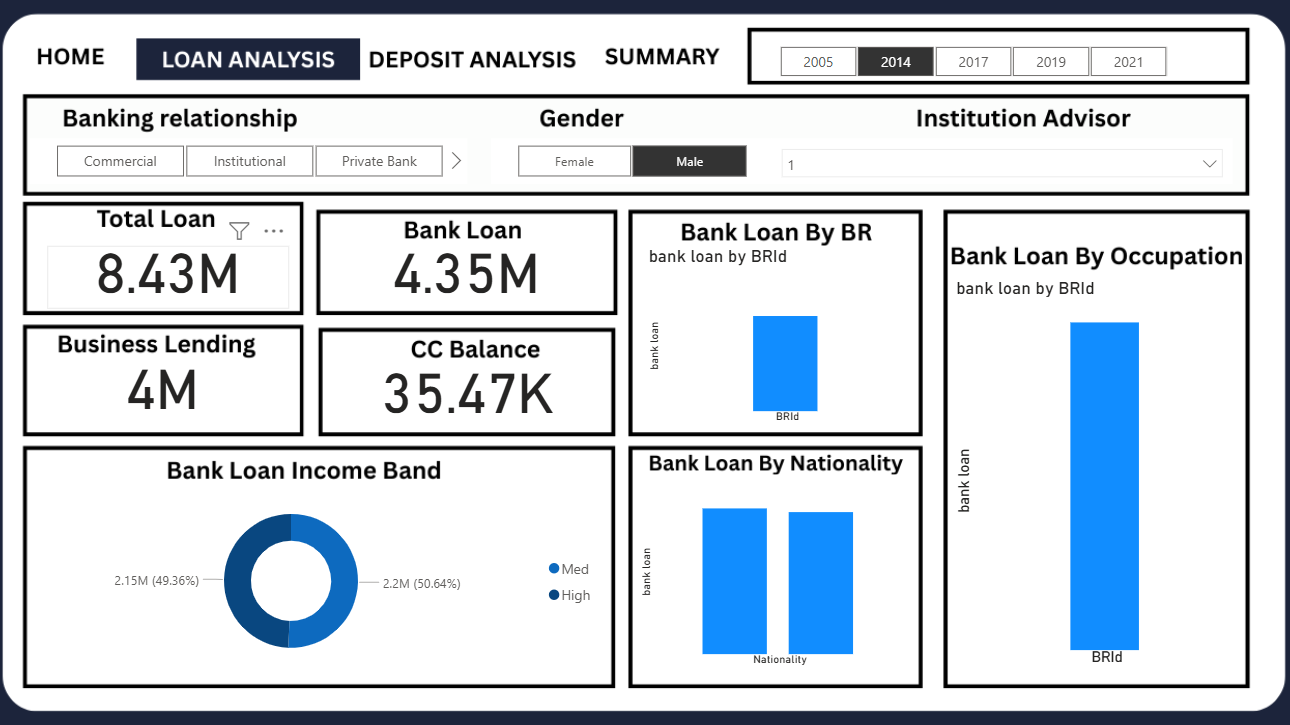

This screenshot's page, from the dashboard's own definition file:
{"tool":"powerbi","page":{"name":"Loan Analysis","canvas":[1280,720],"ordinal":2},"visuals":[{"type":"slicer","fields":{"Values":["Banking.year_of_joining"]},"box":[745.1,50.8,422.6,42.5],"z":0},{"type":"actionButton","box":[31.4,50.7,100.1,39.8],"z":1000},{"type":"actionButton","box":[370.4,50.7,211.1,39.8],"z":2000},{"type":"actionButton","box":[581.8,49.4,140,39.8],"z":3000},{"type":"card","fields":{"Values":["Banking.Total Loan"]},"box":[64.5,249.7,233.3,60.4],"z":4000},{"type":"card","fields":{"Values":["Banking.Business_Lending"]},"box":[53.5,359.5,244.3,65.9],"z":5000},{"type":"card","fields":{"Values":["Banking.bank loan"]},"box":[345.8,249.7,244.3,60.4],"z":6000},{"type":"card","fields":{"Values":["Sum(Banking.Credit Card Balance)"]},"box":[347.2,365,245.6,61.7],"z":7000},{"type":"donutChart","fields":{"Category":["Banking.Income_band"],"Y":["Banking.bank loan"]},"box":[46.7,485.8,555.7,174.3],"z":8000},{"type":"columnChart","fields":{"Category":["Banking.BRId"],"Y":["Banking.bank loan"]},"box":[639.5,249.7,260.7,175.6],"z":9000},{"type":"columnChart","fields":{"Category":["Banking.Nationality"],"Y":["Banking.bank loan"]},"box":[632.6,470.7,260.7,189.4],"z":10000},{"type":"columnChart","fields":{"Category":["Banking.BRId"],"Y":["Banking.bank loan"]},"box":[935.9,279.9,279.9,380.1],"z":11000},{"type":"slicer","fields":{"Values":["Banking.BRId"]},"box":[46.7,145.5,422.6,43.9],"z":12000},{"type":"slicer","fields":{"Values":["Banking.GenderId"]},"box":[492.6,145.5,270.3,43.9],"z":13000},{"type":"slicer","fields":{"Values":["Banking.IAId"]},"box":[763,145.5,446,43.9],"z":14000}]}

Visuals, with their boxes in screenshot pixels (x1, y1, x2, y2), scaled from the page's 1280x720 canvas onto the 1290x725 screenshot:
slicer - Banking.year_of_joining: {"x1": 751, "y1": 51, "x2": 1177, "y2": 94}
actionButton: {"x1": 32, "y1": 51, "x2": 133, "y2": 91}
actionButton: {"x1": 373, "y1": 51, "x2": 586, "y2": 91}
actionButton: {"x1": 586, "y1": 50, "x2": 727, "y2": 90}
card - Banking.Total Loan: {"x1": 65, "y1": 251, "x2": 300, "y2": 312}
card - Banking.Business_Lending: {"x1": 54, "y1": 362, "x2": 300, "y2": 428}
card - Banking.bank loan: {"x1": 349, "y1": 251, "x2": 595, "y2": 312}
card - Sum(Banking.Credit Card Balance): {"x1": 350, "y1": 368, "x2": 597, "y2": 430}
donutChart - Banking.Income_band x Banking.bank loan: {"x1": 47, "y1": 489, "x2": 607, "y2": 665}
columnChart - Banking.BRId x Banking.bank loan: {"x1": 644, "y1": 251, "x2": 907, "y2": 428}
columnChart - Banking.Nationality x Banking.bank loan: {"x1": 638, "y1": 474, "x2": 900, "y2": 665}
columnChart - Banking.BRId x Banking.bank loan: {"x1": 943, "y1": 282, "x2": 1225, "y2": 665}
slicer - Banking.BRId: {"x1": 47, "y1": 147, "x2": 473, "y2": 191}
slicer - Banking.GenderId: {"x1": 496, "y1": 147, "x2": 769, "y2": 191}
slicer - Banking.IAId: {"x1": 769, "y1": 147, "x2": 1218, "y2": 191}
